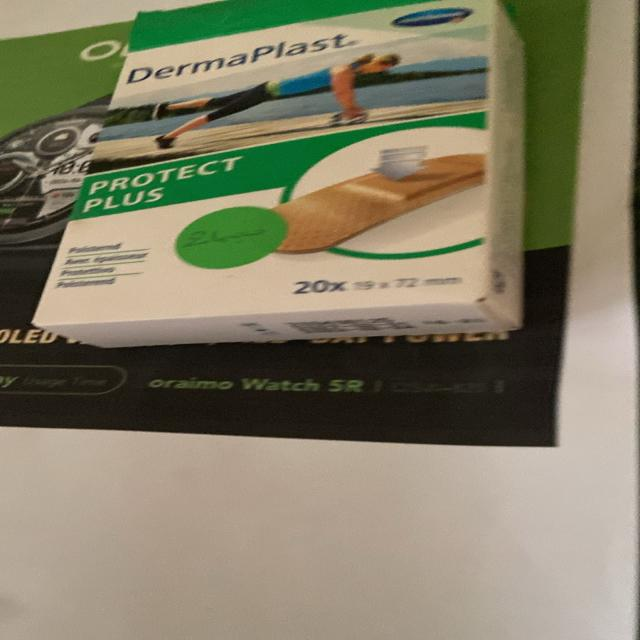Oraimo Watch 5R OSW-820: (145, 370, 509, 403)
